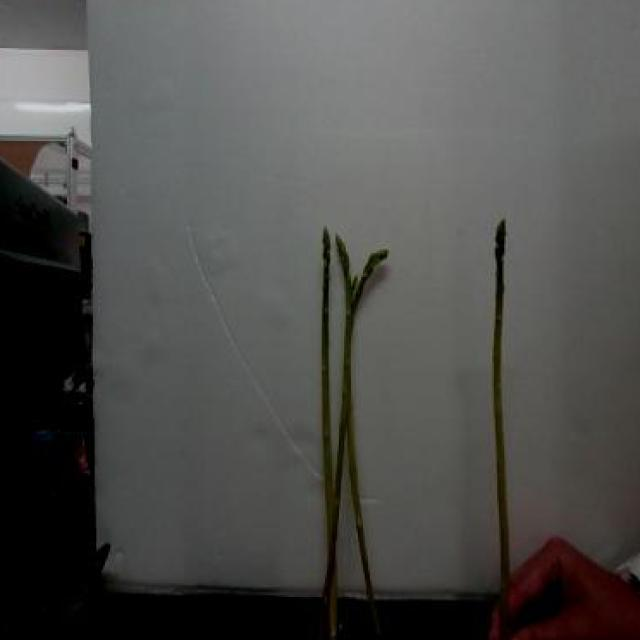aspargus: (319, 248, 389, 614), (491, 220, 511, 630)
